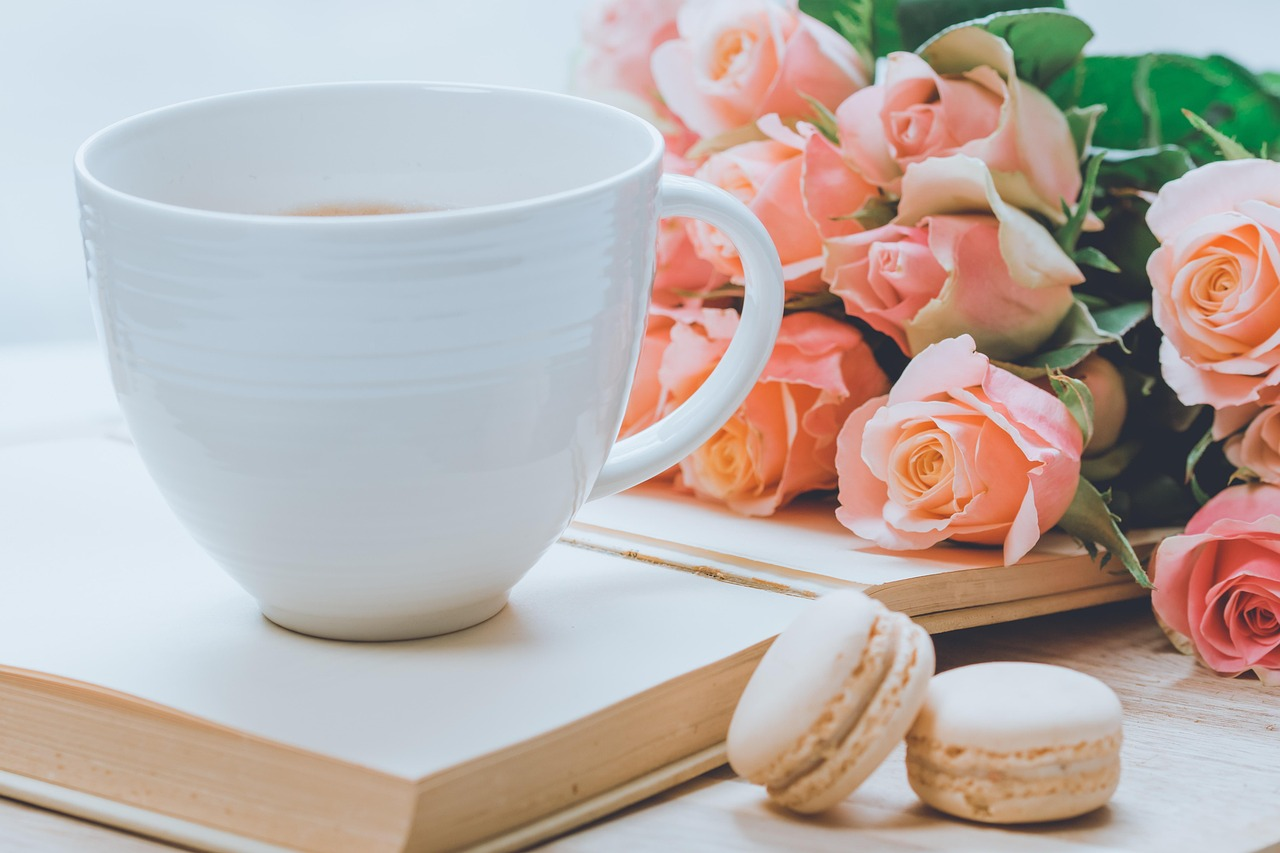mug: (39, 66, 838, 658)
